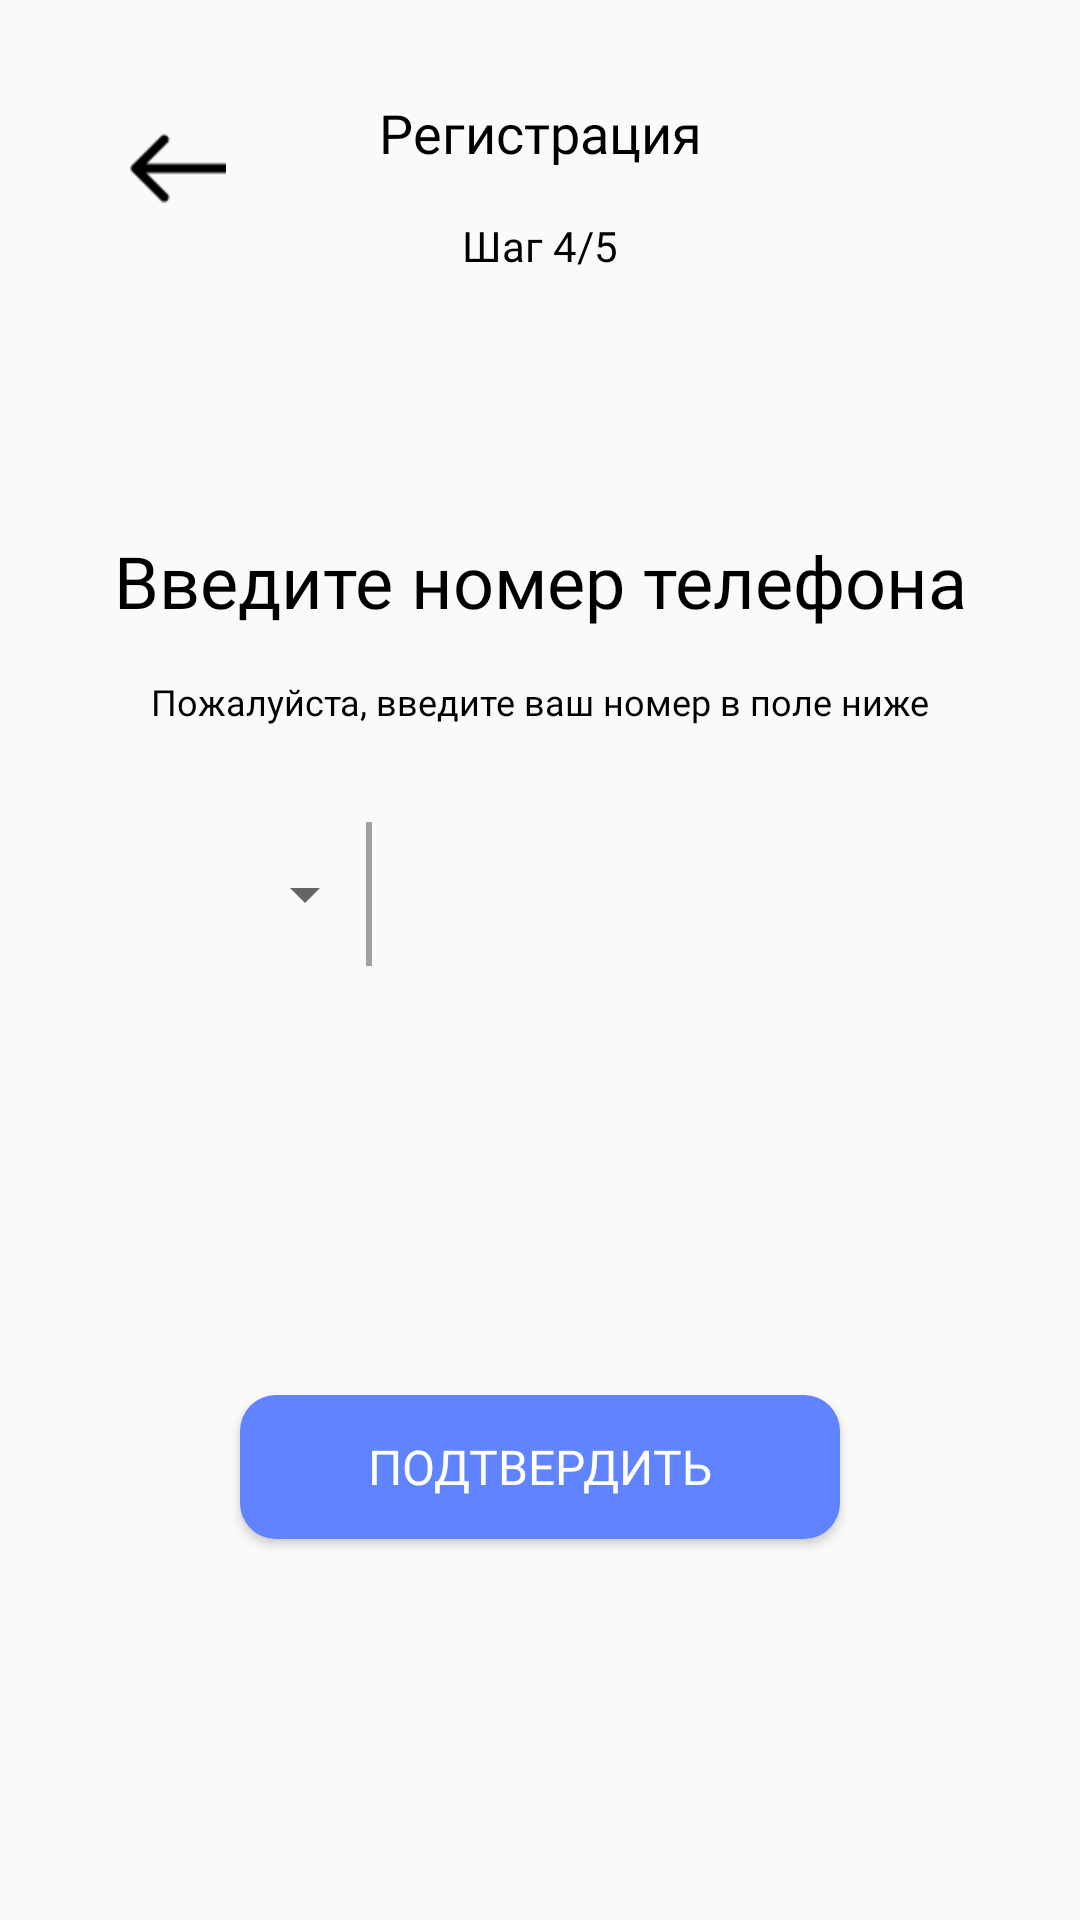

Point at icon controls on the screen. Image size 1080 x 1920, points as (x=x, y=y).
Выйти: (x=178, y=168)
